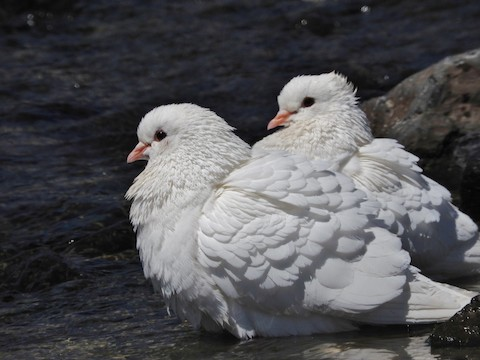pigeon: (189, 66, 475, 344), (121, 94, 332, 348)
